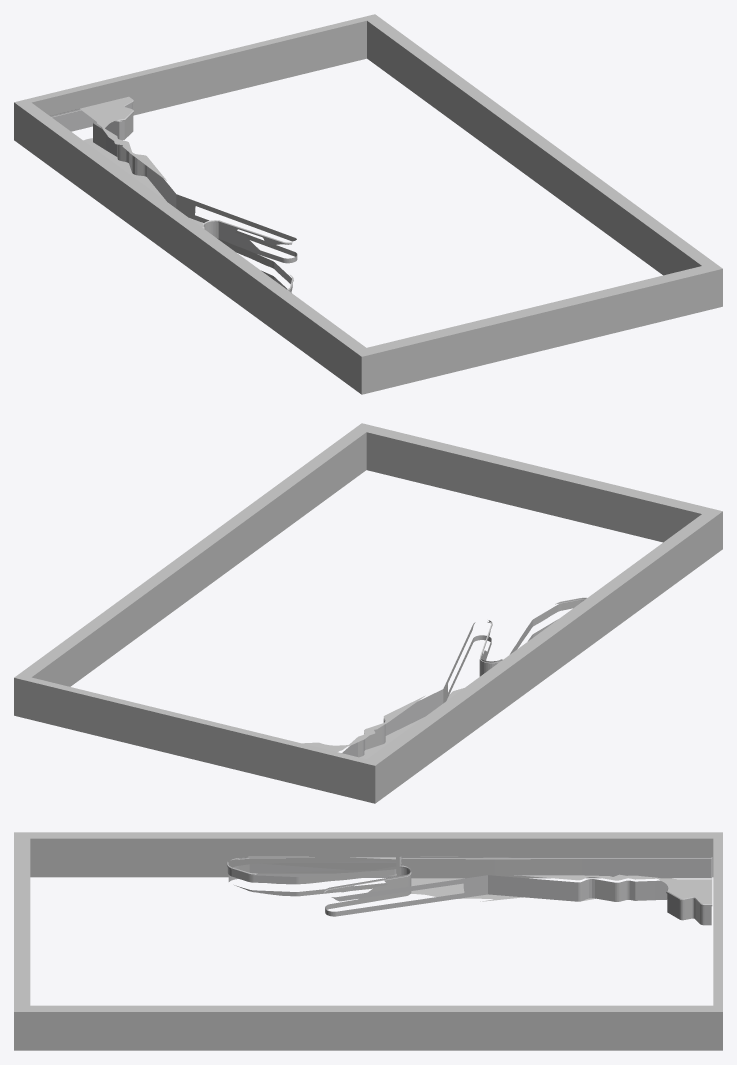
Rendered from TopLeftSlingshotBlock.obj.
3 views of the same model, one above another, from view 1: azimuth 30°, elevation 25°; view 2: azimuth 150°, elevation 25°; view 3: azimuth 270°, elevation 25° (orthographic).
Parts seen in each view (by area): view 1: Frame_Cube, Plane; view 2: Frame_Cube, Plane; view 3: Frame_Cube, Plane.
Boxes of the visible parts, x1,y1,x2,y2 form: Frame_Cube: (14,14,722,394); Plane: (50,96,297,292); Frame_Cube: (14,423,722,803); Plane: (302,597,586,759); Frame_Cube: (14,832,722,1050); Plane: (226,856,712,925).
Size of the model in its own units: 1.99 by 0.2 by 3.32.
